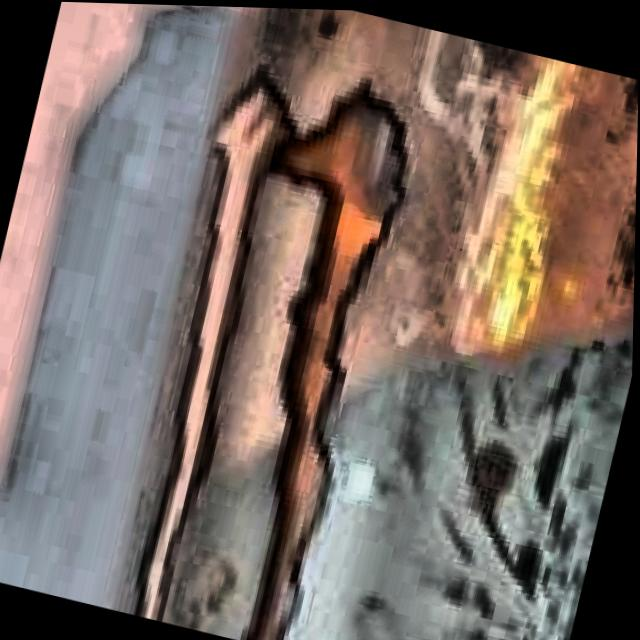metal: (106, 5, 639, 640)
